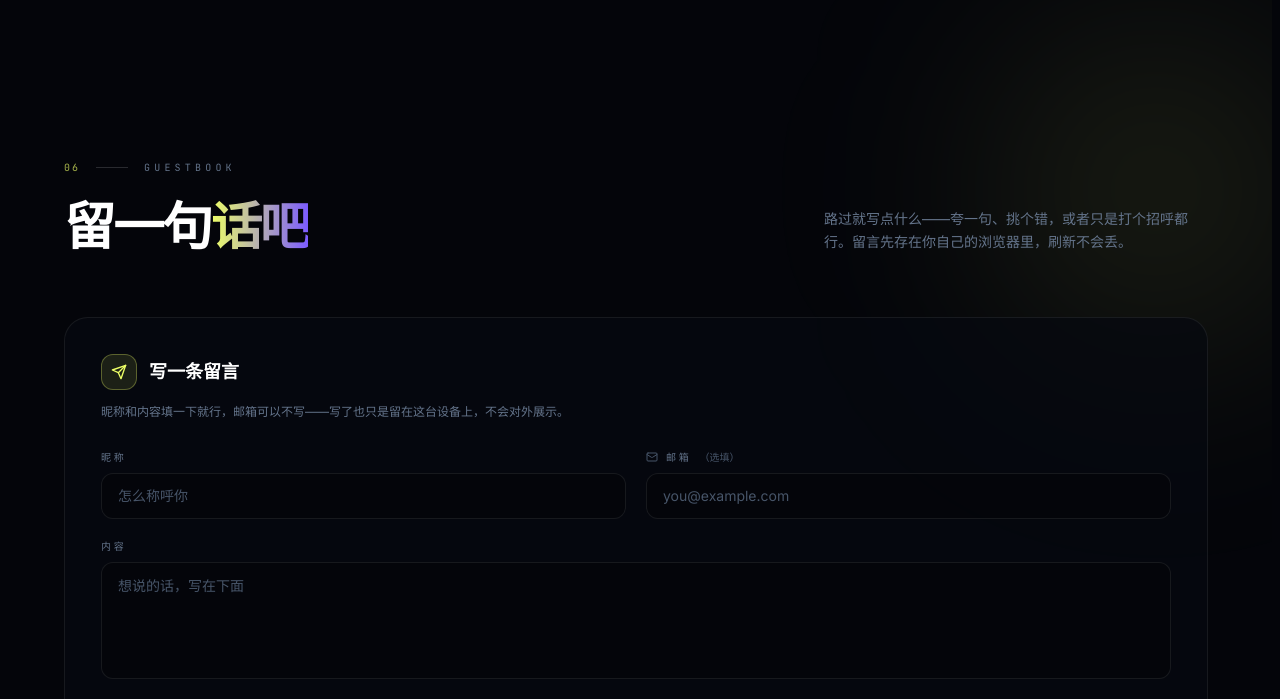
Test: 留言板页 › 提交后新留言出现在顶部，并写入 localStorage
In the field with placeholder "怎么称呼你": (364, 496) [101, 473, 626, 519], type "路人甲"
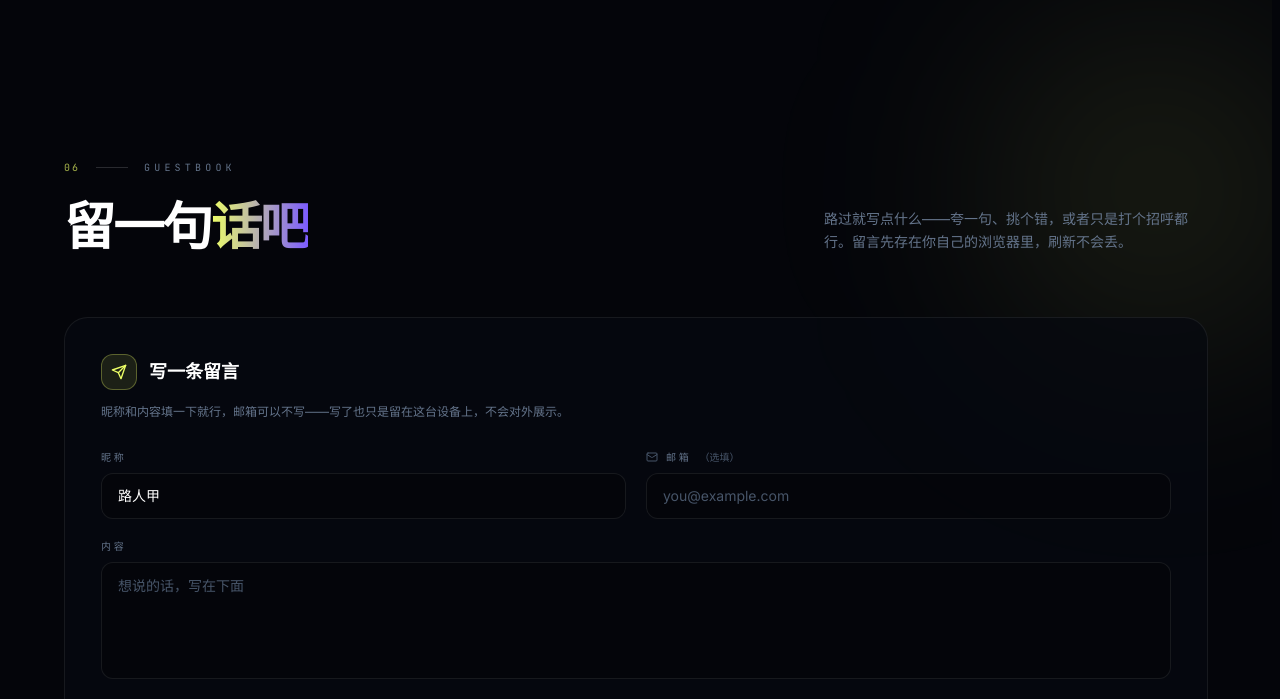
In the text box with placeholder "想说的话，写在下面": (636, 620) [101, 562, 1171, 679], type "这个站看着挺舒服，先留个脚印。"
(page scrolled)
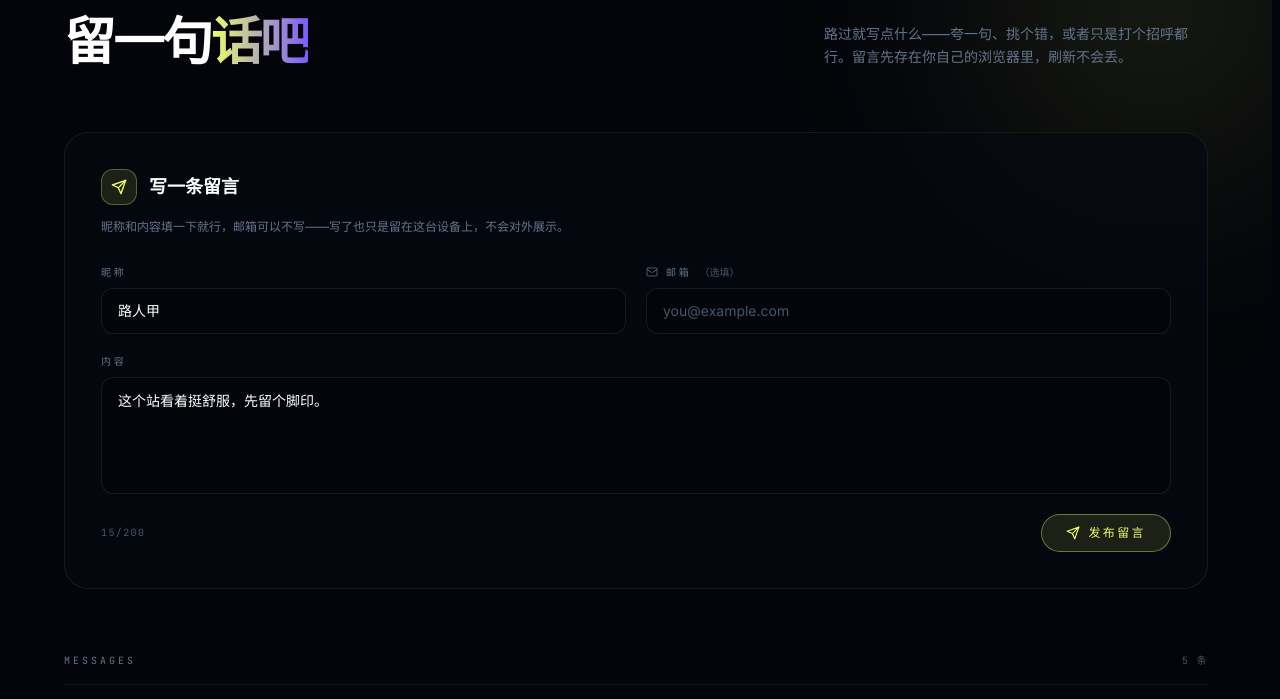
Submit the form with placeholder "想说的话，写在下面", box [64, 132, 1208, 589]
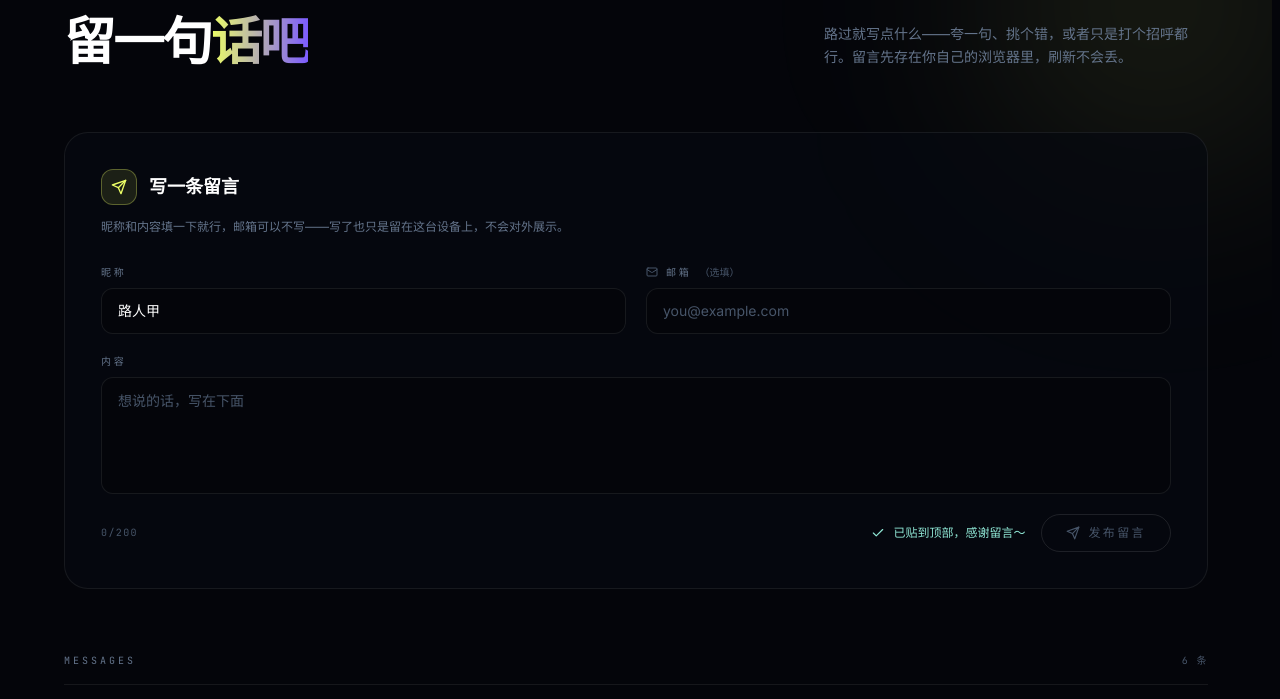
Now the message shows "已贴到顶部", box [893, 525, 1025, 540]
